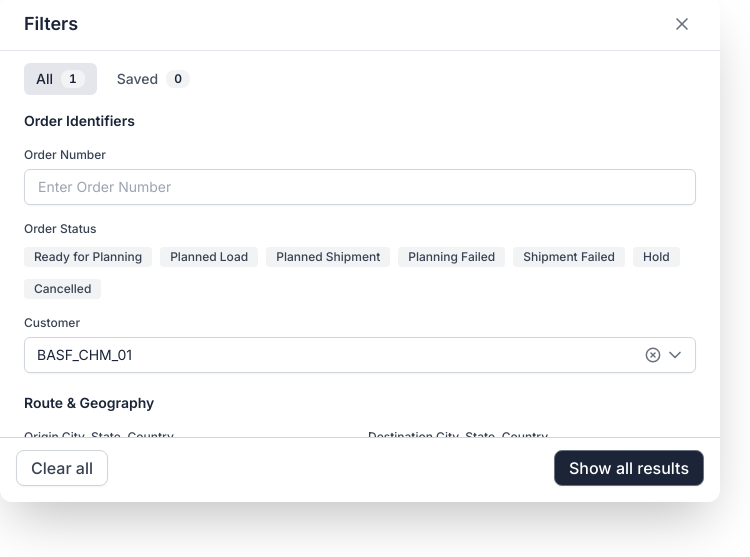
Scenario: single-value pickers (S130 — aligned with Shipments) › Clear all empties a committed picker
The image size is (750, 557).
Click the button "Clear all" at (62, 468), box [16,450,108,486]
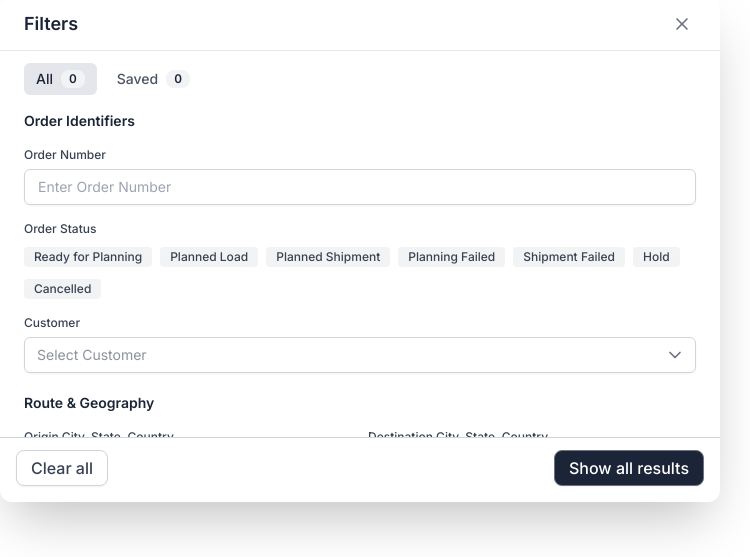
Expected: the dropdown with placeholder "Select Customer" is empty, [37,345,661,365]
